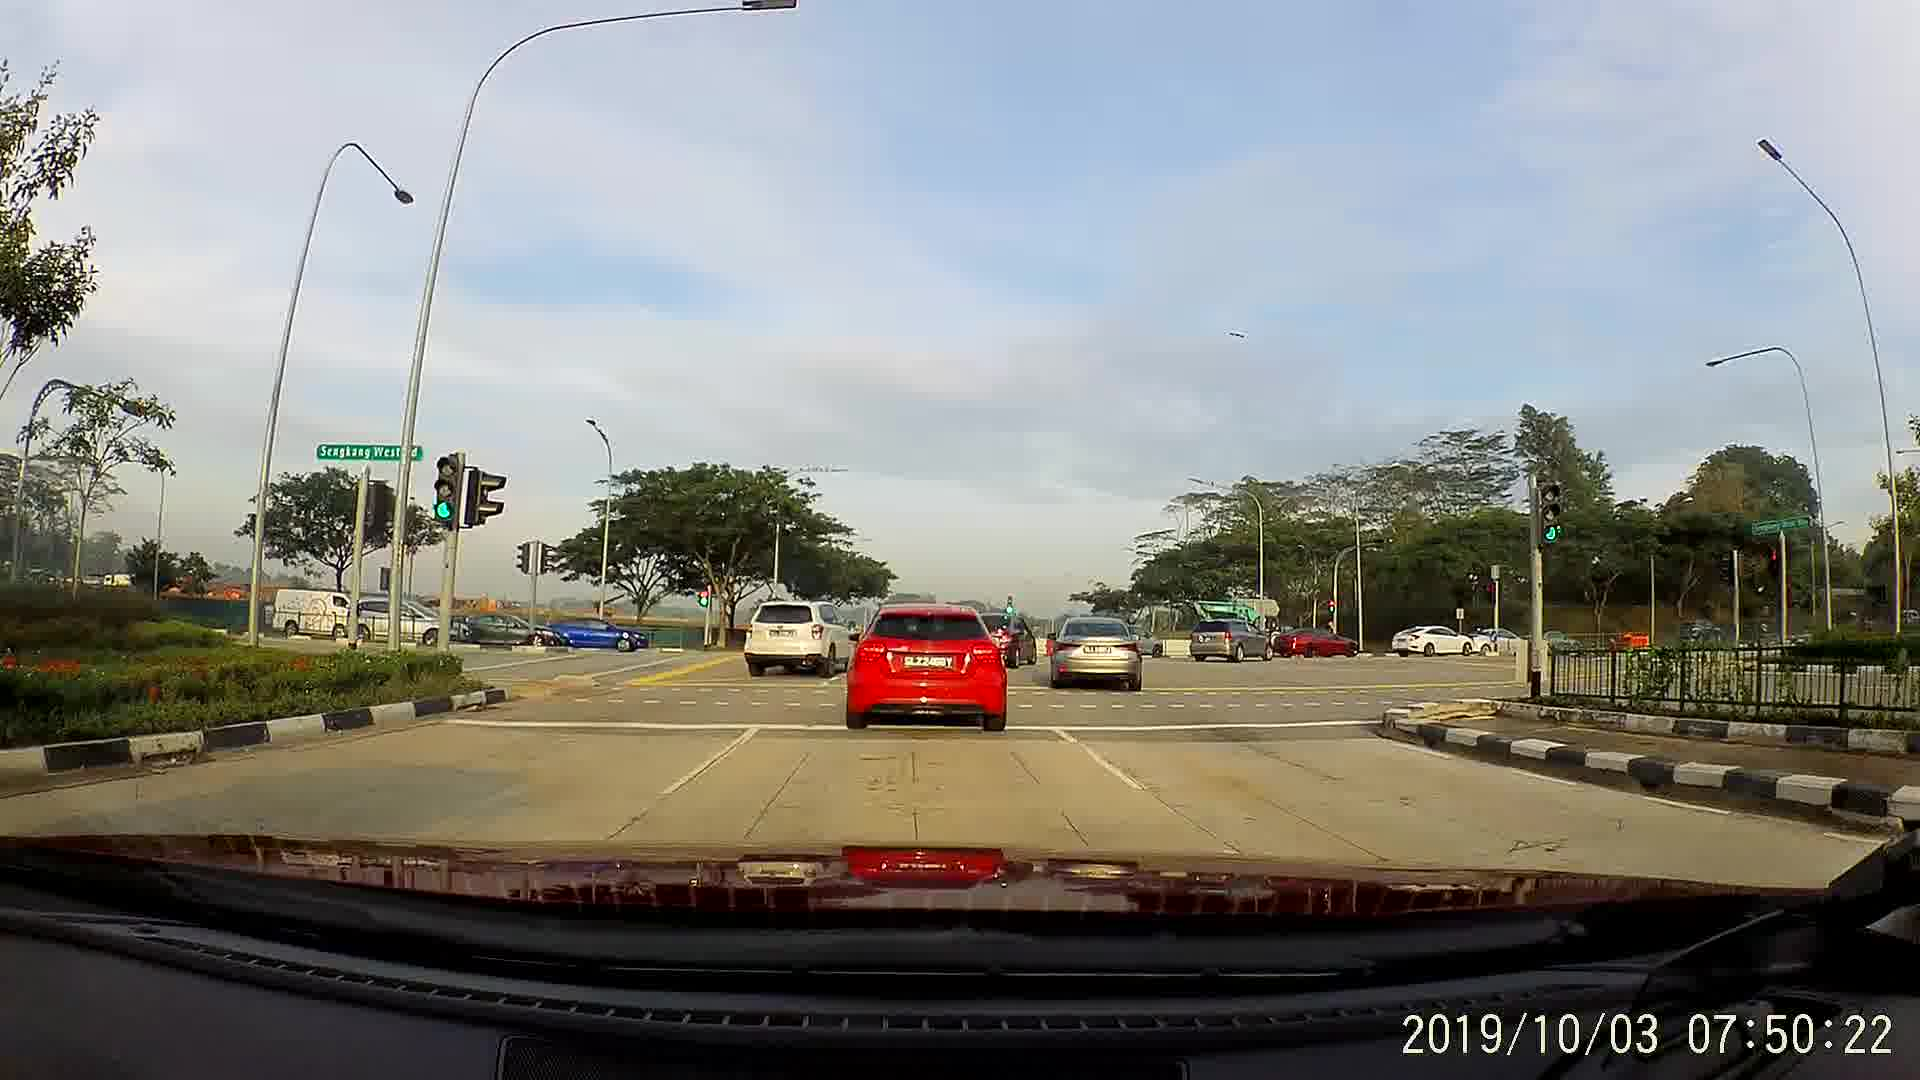car: (843, 600, 1010, 738), (735, 588, 851, 680), (1052, 613, 1146, 696), (264, 575, 355, 645), (545, 611, 649, 661), (465, 600, 560, 650), (367, 591, 454, 644), (1182, 615, 1273, 663), (973, 605, 1038, 669), (1383, 620, 1477, 659), (1271, 621, 1364, 655), (1514, 626, 1592, 658), (1460, 625, 1536, 657), (1675, 611, 1724, 646)
